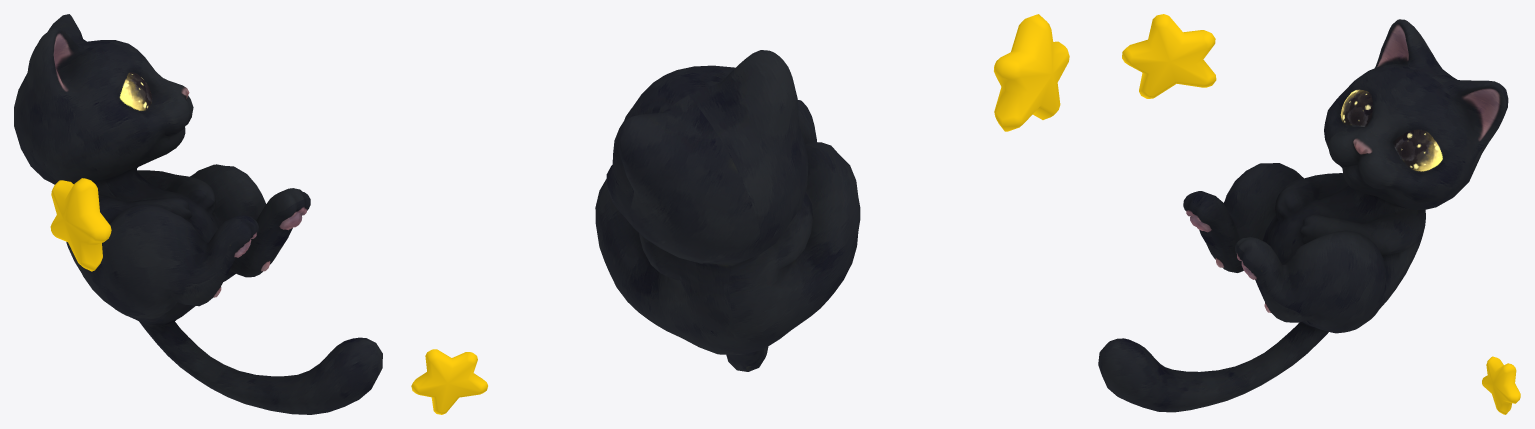
File: cat.glb
3 views of the same model, side by side, from view 1: azimuth 30°, elevation 25°; view 2: azimuth 150°, elevation 25°; view 3: azimuth 270°, elevation 25° (orthographic). The views are drawn at different scales.
Parts seen in each view (by area): view 1: polySurface1, pPlane3; view 2: polySurface1, pPlane3; view 3: polySurface1, pPlane3.
Part boxes in pixels (x1,y1,x2,y2): polySurface1: [14, 14, 382, 414]; pPlane3: [50, 178, 111, 271]; polySurface1: [595, 50, 860, 371]; pPlane3: [411, 14, 1069, 414]; polySurface1: [1098, 19, 1508, 412]; pPlane3: [1122, 14, 1520, 414].
Bounding box in the file's own units: 0.0573 × 0.0554 × 0.0642.
2 materials, 1 textured.
